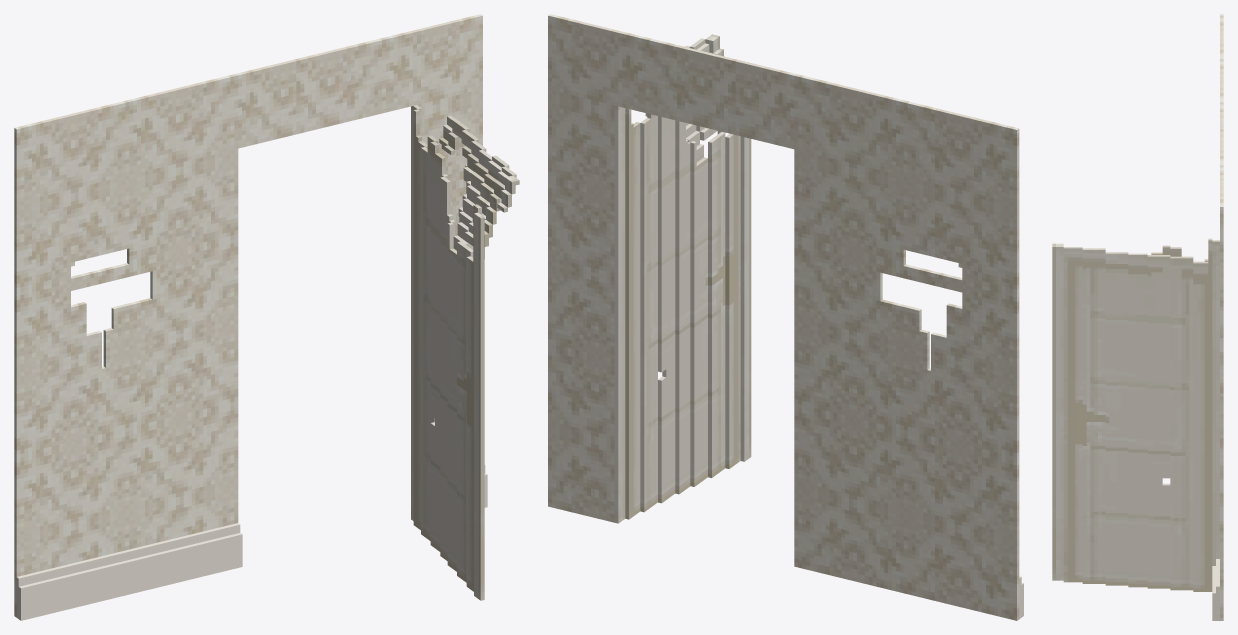
File: door0.vox.obj
3 views of the same model, side by side, from view 1: azimuth 30°, elevation 25°; view 2: azimuth 150°, elevation 25°; view 3: azimuth 270°, elevation 25° (orthographic). The views are drawn at different scales.
Size of the model in its own units: 12 by 12 by 4.5.
Materials: 1 (1 with a texture image).
